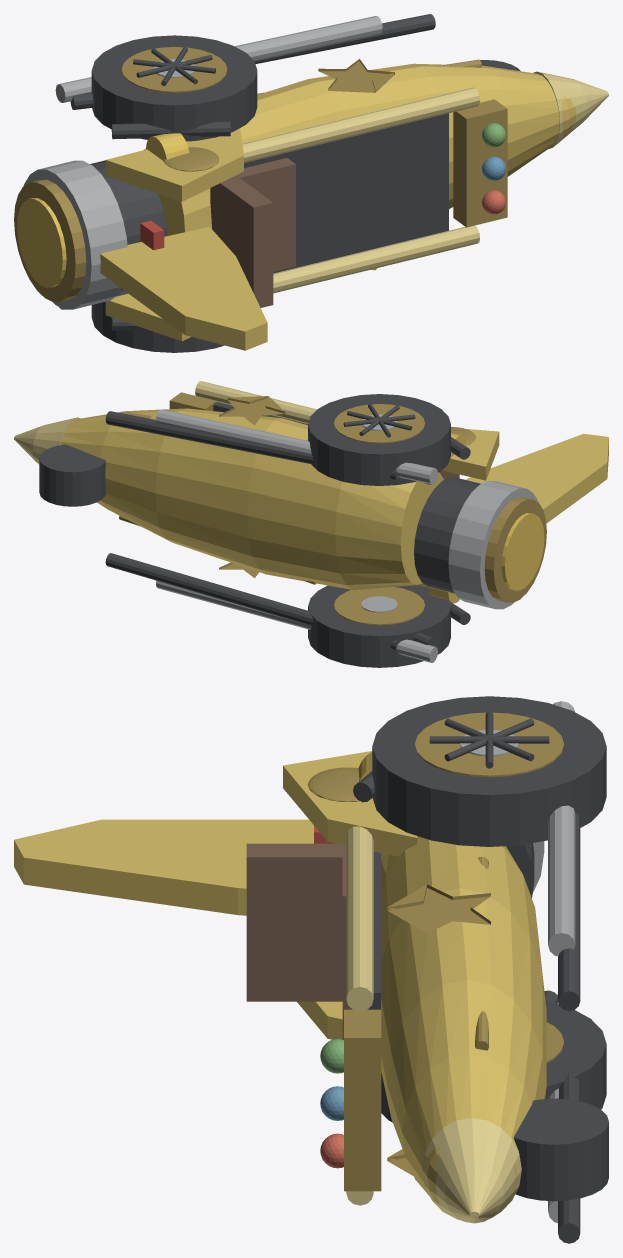
Rendered from golden-rocket-racer.glb.
The picture shows the model from 3 angles, top to bottom: view 1: azimuth 30°, elevation 25°; view 2: azimuth 150°, elevation 25°; view 3: azimuth 270°, elevation 25°; orthographic projection. The views are drawn at different scales.
Visible parts, largest first — view 1: 05_Cockpit_Dark_Opening, 01_Golden_Hull, 25_Tall_Golden_Tail, 11_Rear_Tire_R, 17_Engine_Chrome, 07_Seat_Back, 09_Control_Panel, 08_Cockpit_Gold_Rim_R, 23_Side_Fin_R, 08_Cockpit_Gold_Rim_L, 18_Engine_Gold_Ring, 22_Lower_Pipe_R (+16 smaller); view 2: 01_Golden_Hull, 11_Rear_Tire_R, 11_Rear_Tire_L, 25_Tall_Golden_Tail, 17_Engine_Chrome, 16_Engine_Base, 15_Front_Wheel, 04_Chrome_Rocker_L, 22_Lower_Pipe_R, 18_Engine_Gold_Ring, 04_Chrome_Rocker_R, 19_Engine_Inner_Glow (+9 smaller); view 3: 01_Golden_Hull, 11_Rear_Tire_R, 25_Tall_Golden_Tail, 07_Seat_Back, 15_Front_Wheel, 02_Nose_Bright_Gold, 09_Control_Panel, 23_Side_Fin_R, 12_Golden_Rim_R, 08_Cockpit_Gold_Rim_R, 11_Rear_Tire_L, 22_Lower_Pipe_R (+8 smaller).
Boxes of the visible parts, bbox=[...] form: 05_Cockpit_Dark_Opening: bbox=[244, 113, 448, 273]; 01_Golden_Hull: bbox=[144, 63, 576, 235]; 25_Tall_Golden_Tail: bbox=[100, 227, 267, 350]; 11_Rear_Tire_R: bbox=[91, 35, 257, 141]; 17_Engine_Chrome: bbox=[23, 160, 127, 309]; 07_Seat_Back: bbox=[210, 175, 273, 307]; 09_Control_Panel: bbox=[453, 99, 507, 227]; 08_Cockpit_Gold_Rim_R: bbox=[242, 87, 479, 162]; 23_Side_Fin_R: bbox=[105, 128, 243, 201]; 08_Cockpit_Gold_Rim_L: bbox=[273, 225, 479, 293]; 18_Engine_Gold_Ring: bbox=[14, 179, 86, 301]; 22_Lower_Pipe_R: bbox=[55, 16, 382, 102]; 01_Golden_Hull: bbox=[60, 408, 443, 589]; 11_Rear_Tire_R: bbox=[308, 394, 450, 485]; 11_Rear_Tire_L: bbox=[308, 585, 450, 667]; 25_Tall_Golden_Tail: bbox=[465, 433, 608, 523]; 17_Engine_Chrome: bbox=[448, 480, 538, 609]; 16_Engine_Base: bbox=[414, 477, 480, 592]; 15_Front_Wheel: bbox=[39, 444, 105, 506]; 04_Chrome_Rocker_L: bbox=[105, 553, 397, 650]; 22_Lower_Pipe_R: bbox=[156, 409, 437, 484]; 18_Engine_Gold_Ring: bbox=[484, 497, 546, 602]; 04_Chrome_Rocker_R: bbox=[105, 411, 397, 480]; 19_Engine_Inner_Glow: bbox=[501, 513, 544, 590]; 01_Golden_Hull: bbox=[381, 836, 546, 1207]; 11_Rear_Tire_R: bbox=[372, 696, 606, 846]; 25_Tall_Golden_Tail: bbox=[14, 819, 313, 915]; 07_Seat_Back: bbox=[246, 843, 346, 1001]; 15_Front_Wheel: bbox=[514, 1098, 608, 1201]; 02_Nose_Bright_Gold: bbox=[422, 1118, 521, 1223]; 09_Control_Panel: bbox=[344, 1009, 381, 1191]; 23_Side_Fin_R: bbox=[283, 751, 417, 856]; 12_Golden_Rim_R: bbox=[414, 712, 564, 777]; 08_Cockpit_Gold_Rim_R: bbox=[346, 826, 373, 1011]; 11_Rear_Tire_L: bbox=[381, 1000, 606, 1122]; 22_Lower_Pipe_R: bbox=[548, 701, 575, 956].
Size of the model in its own units: 3.79 by 1.63 by 2.39.
